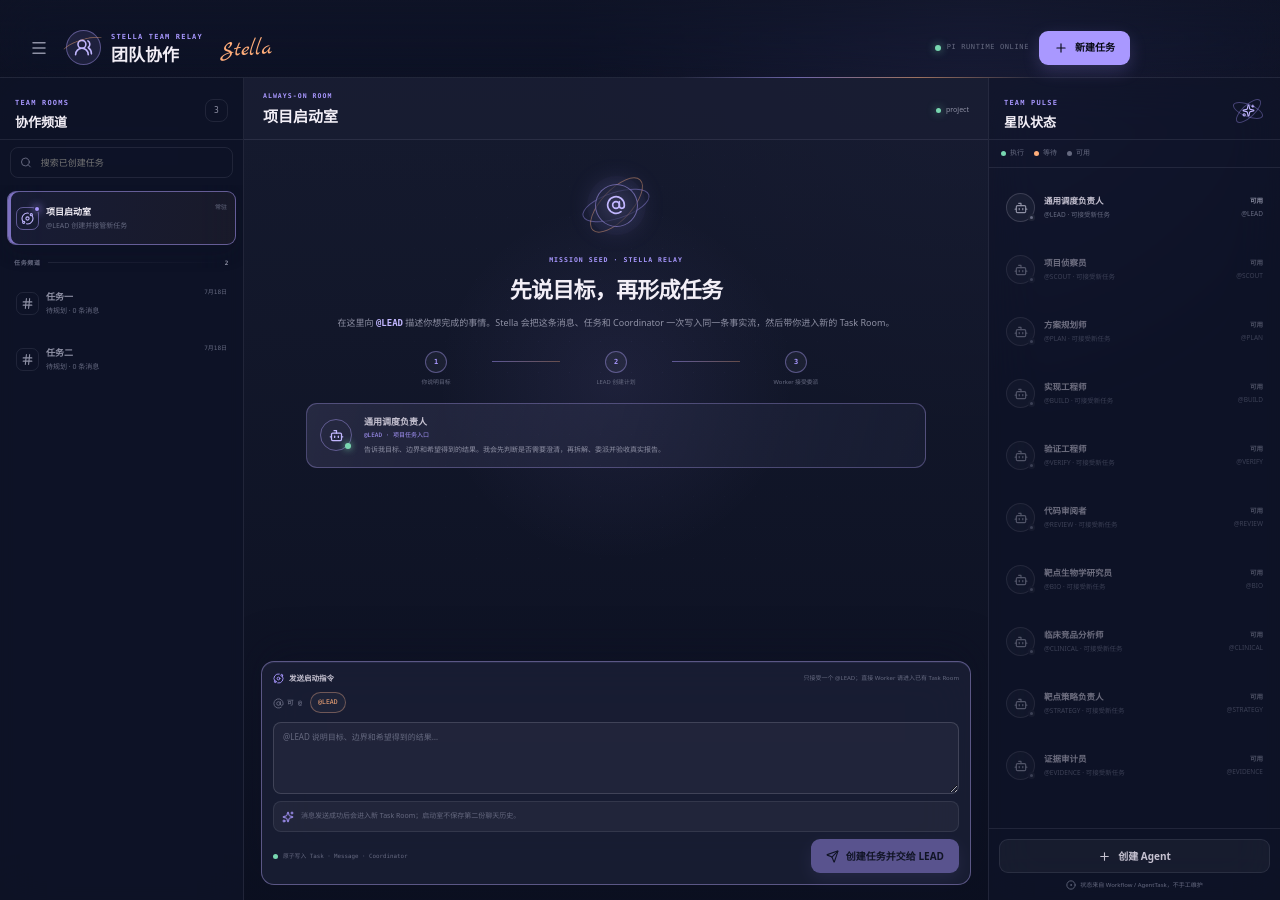
Test: TeamWorkspace › resets confirm-delete state when switching to another task room
Click the button "任务一 待规划 · 0 条消息 7月18日" at (122, 303), box x1=7 y1=276 x2=236 y2=330
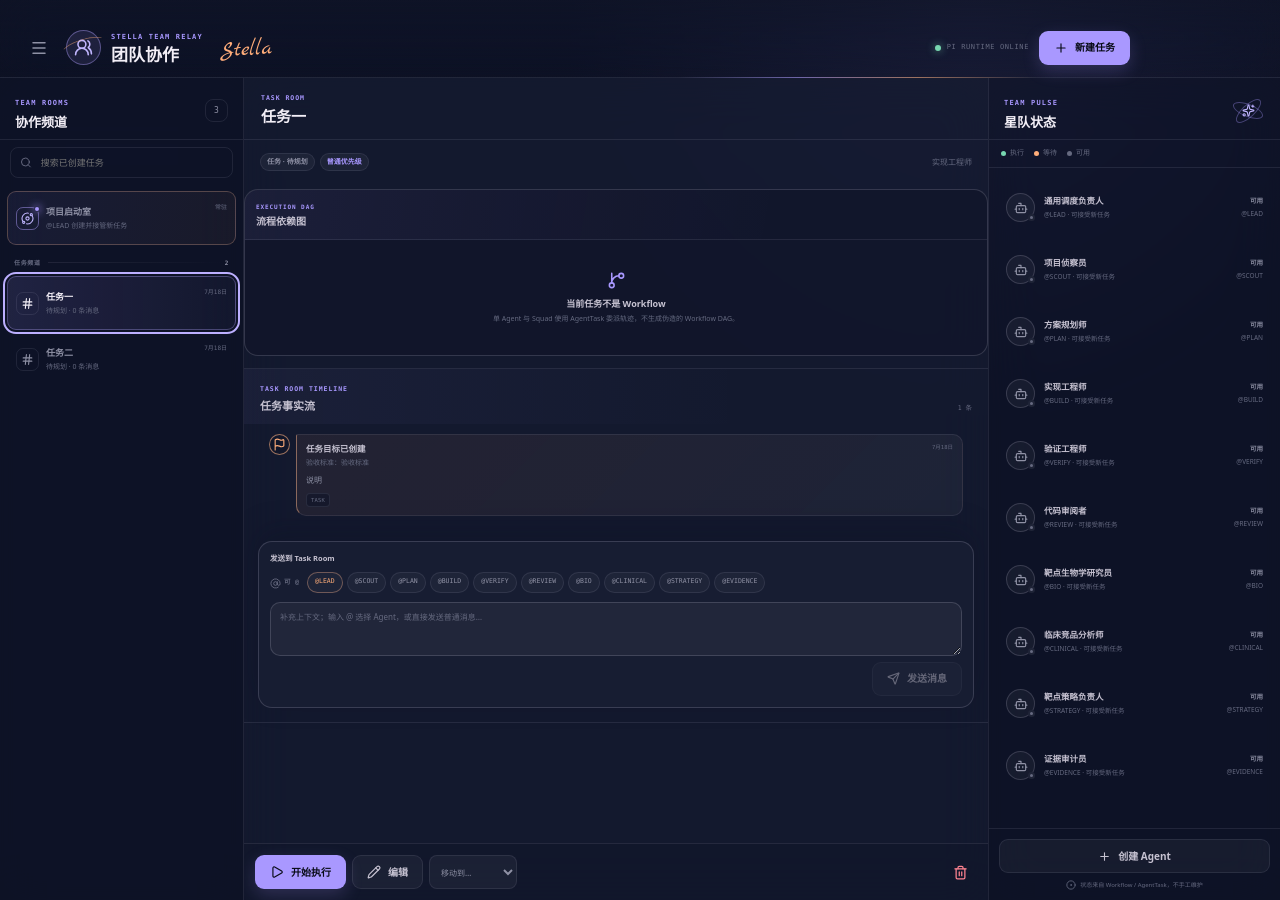
Click the button named "删除任务" at (960, 872), box x1=943 y1=855 x2=977 y2=889
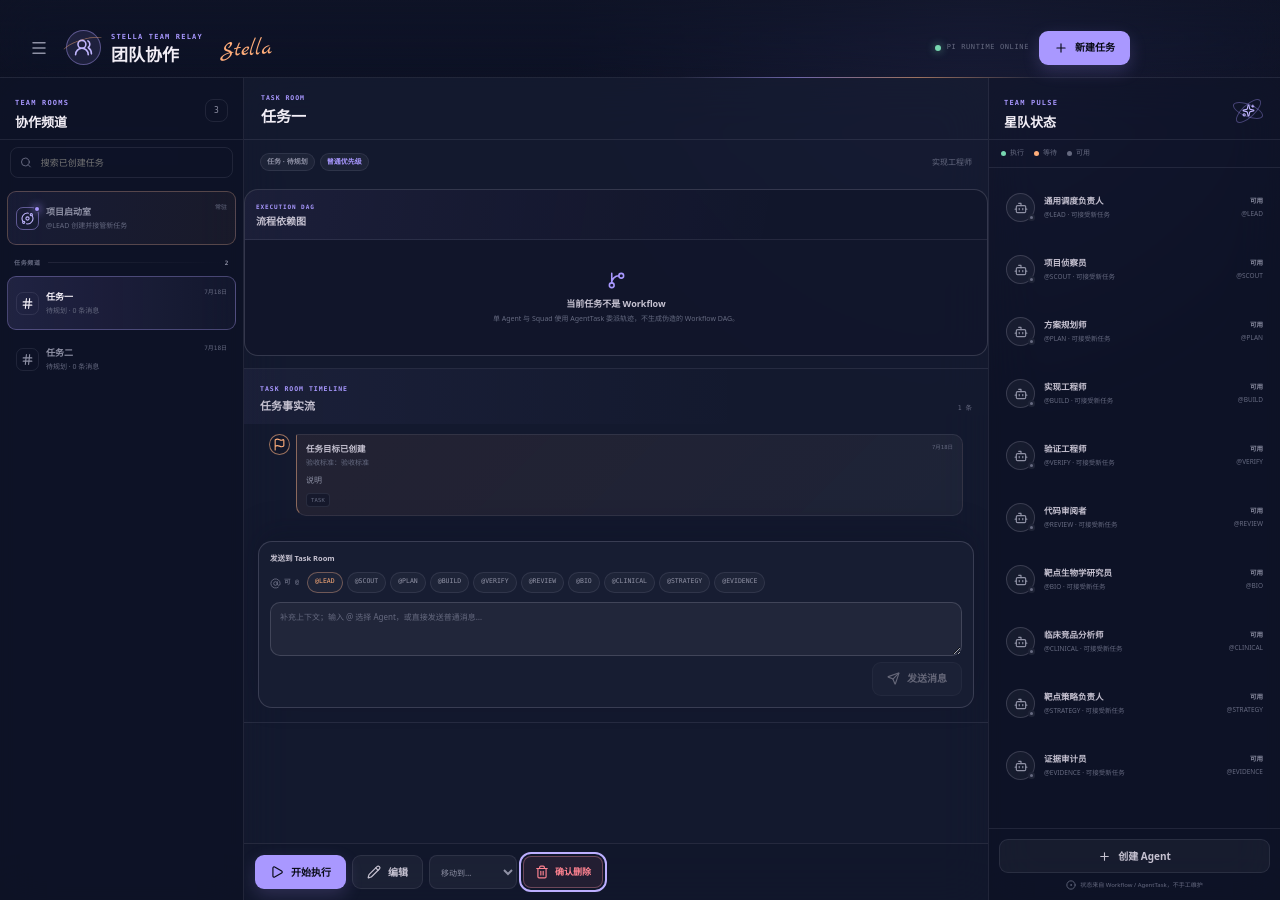
Now the button "确认删除" is shown, box x1=523 y1=856 x2=603 y2=888
Click the button "任务二 待规划 · 0 条消息 7月18日" at (122, 359), box x1=7 y1=332 x2=236 y2=386
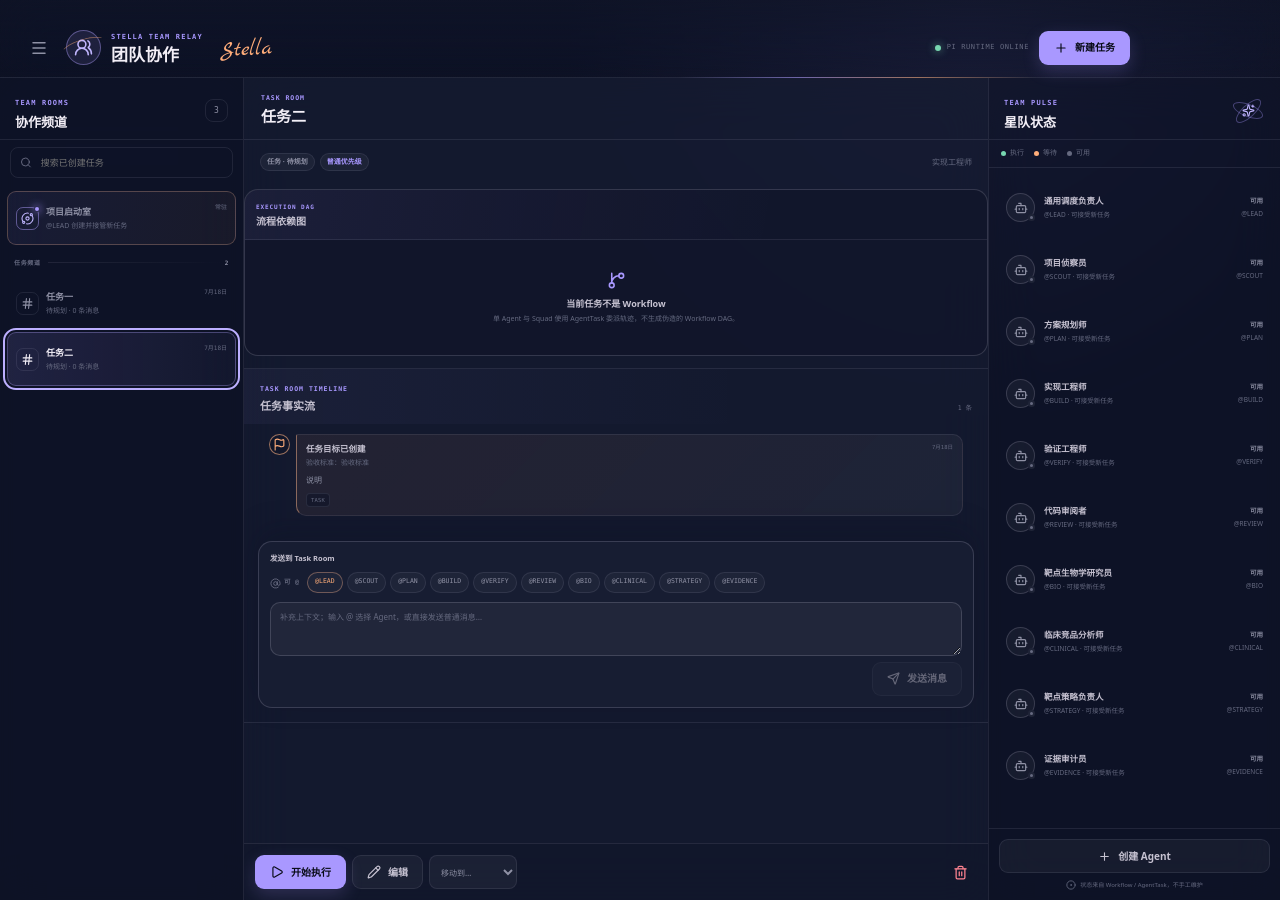
Now the element named "任务详情：任务二" is shown, box x1=244 y1=78 x2=988 y2=899
Now the button "确认删除" is gone
Now the button named "删除任务" is shown, box x1=943 y1=855 x2=977 y2=889
